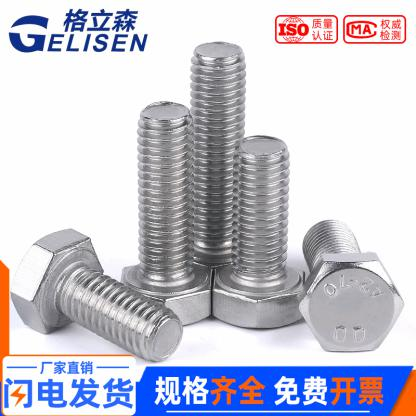FOD: (8, 226, 184, 365), (120, 101, 214, 330), (211, 134, 308, 330), (298, 217, 406, 356)
